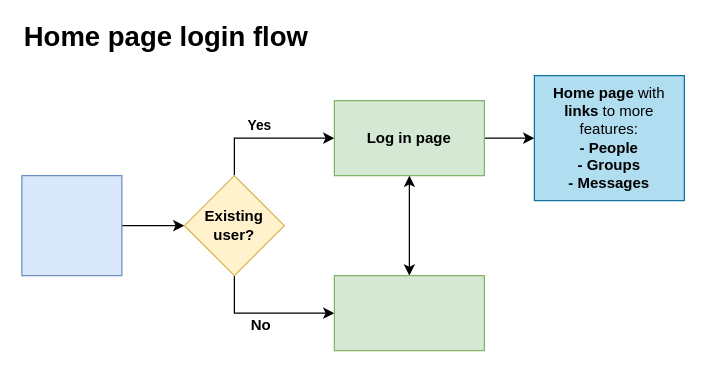
Some shapes in this 706 by 373 pixel diagram are drawn without their labels. The shapes that lost their labels are listed below. From the top down, each one's centre as x and y in pixels, then its label:
At point 71,225: "Home page not logged in: Translation only".
At point 408,312: "Sign up page".
